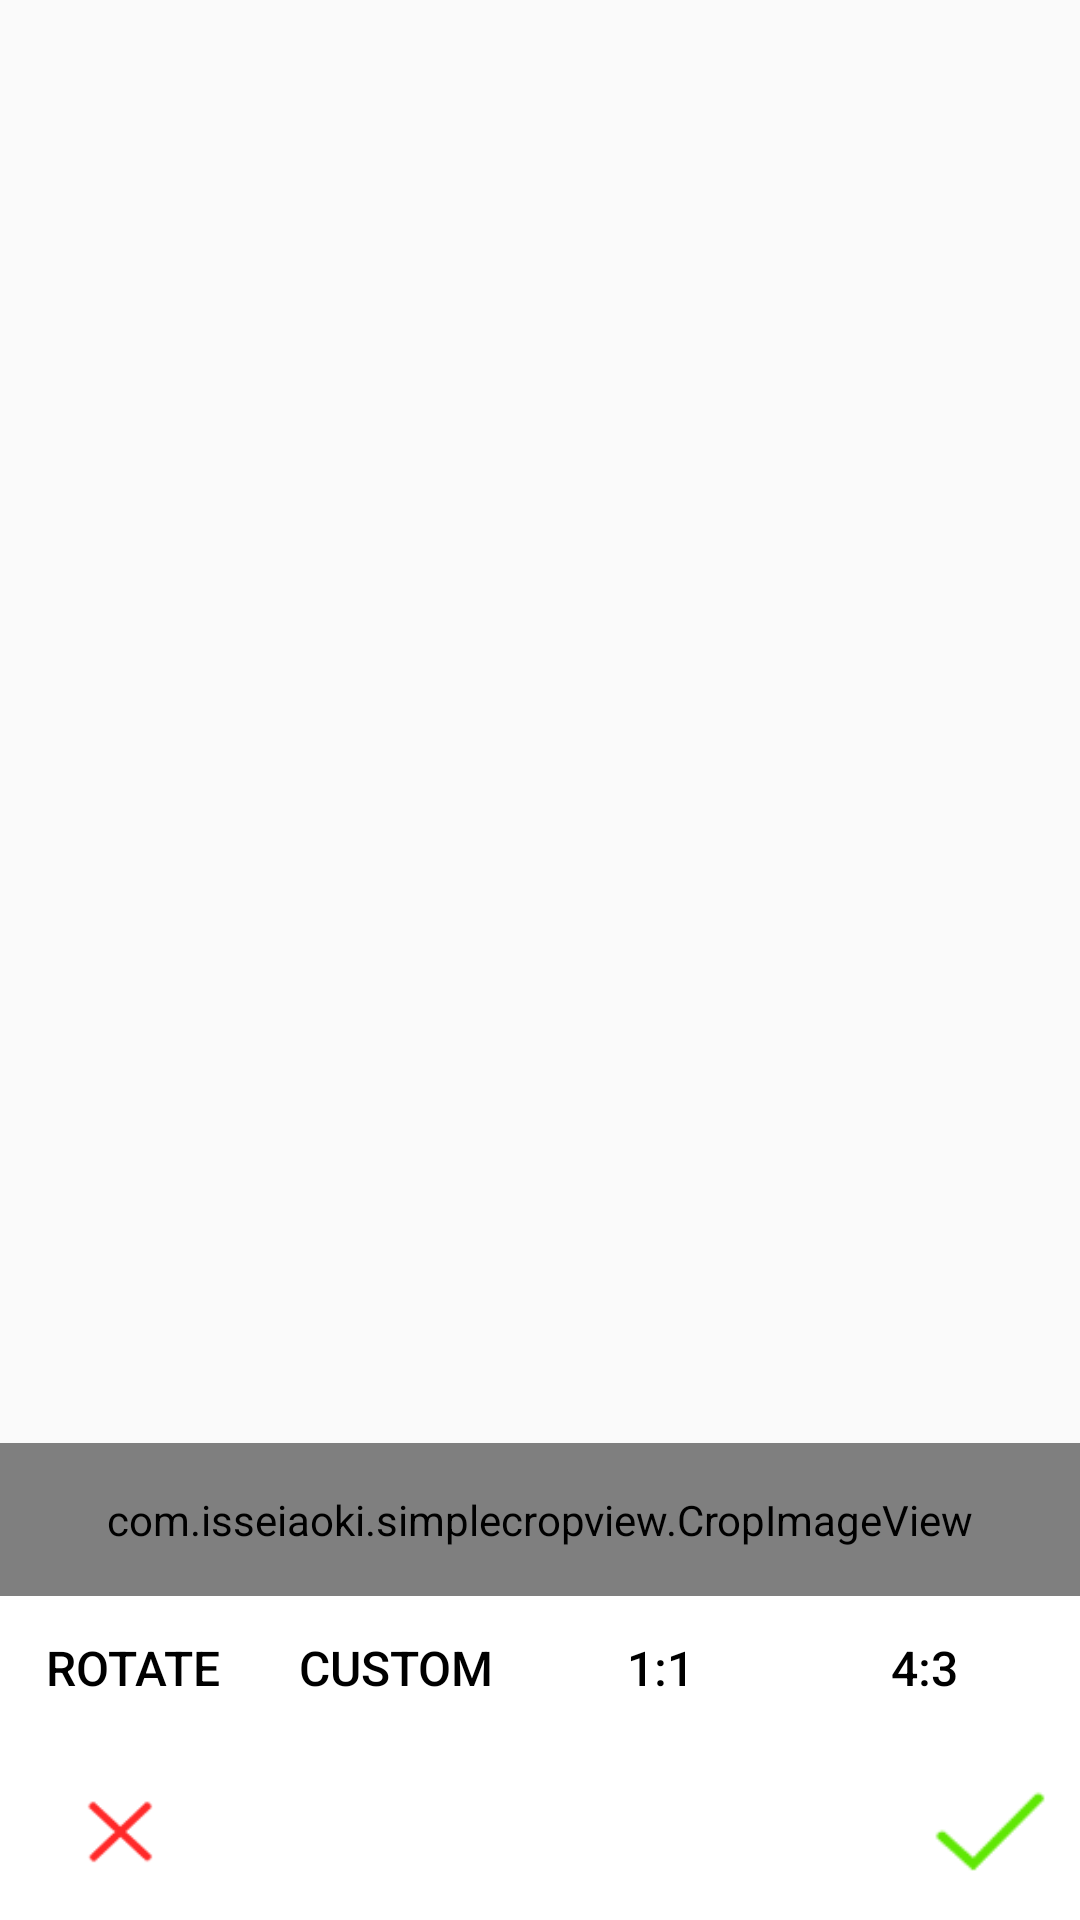

Where icons sit on this 1080 x 1920 app screen, as [x1,y1,x2,y2]:
cancel: [88,1801,152,1862]
save: [935,1792,1045,1871]
